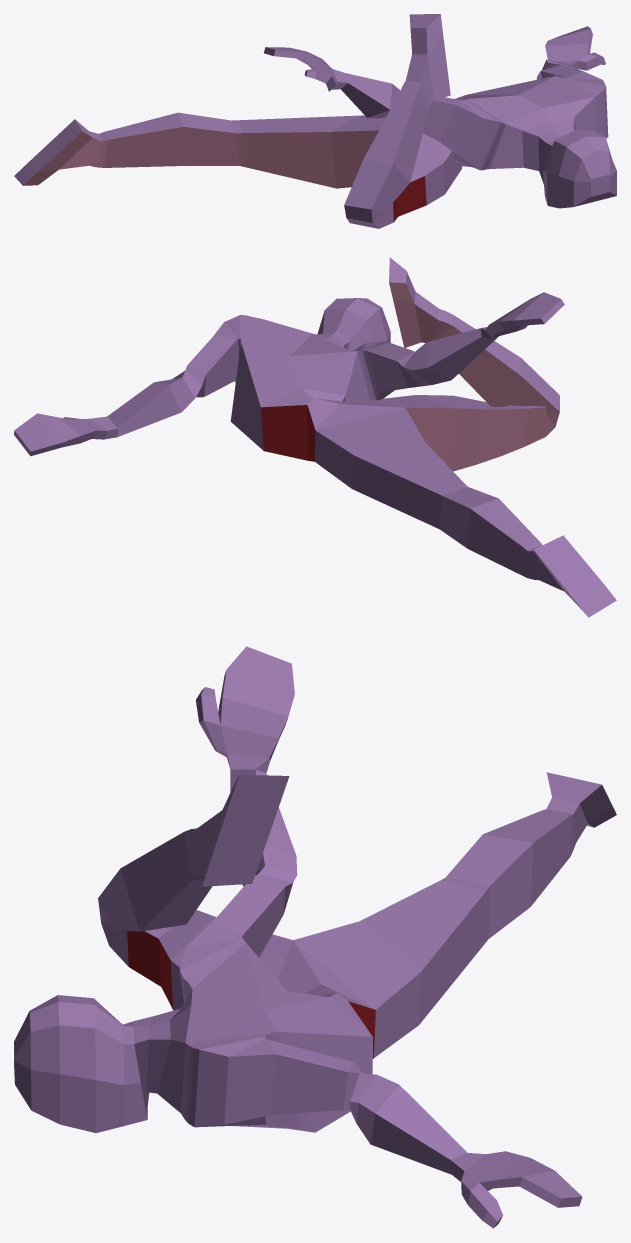
The model's file is NPCsCorpsesOvertime3.fbx.
The picture shows the model from 3 angles, top to bottom: view 1: azimuth 30°, elevation 25°; view 2: azimuth 150°, elevation 25°; view 3: azimuth 270°, elevation 25°; orthographic projection. The views are drawn at different scales.
Parts seen in each view (by area): view 1: NPCV1.005; view 2: NPCV1.005; view 3: NPCV1.005.
Boxes of the visible parts, x1,y1,x2,y2 form: NPCV1.005: [14, 14, 616, 228]; NPCV1.005: [14, 257, 616, 617]; NPCV1.005: [14, 646, 616, 1228].
Bounding box in the file's own units: 2.13 × 1.25 × 0.6754.
